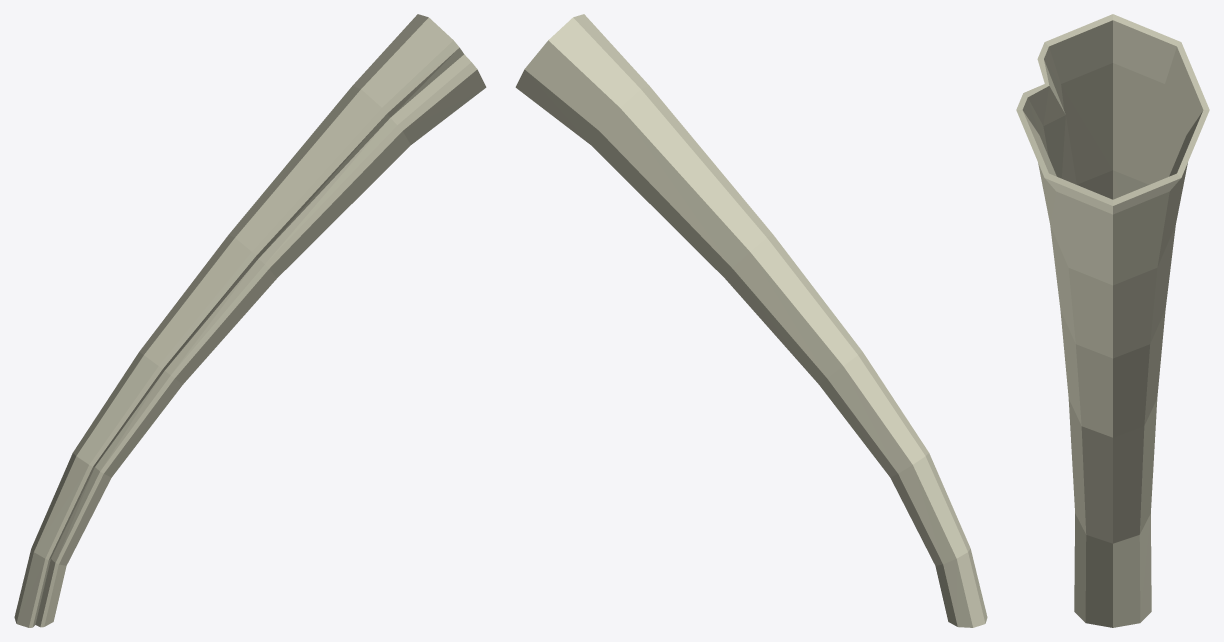
The model's file is SM_Bone_03.fbx.
The picture shows the model from 3 angles, left to right: view 1: azimuth 30°, elevation 25°; view 2: azimuth 150°, elevation 25°; view 3: azimuth 270°, elevation 25°; orthographic projection. The views are drawn at different scales.
Visible parts, largest first — view 1: Bone_03; view 2: Bone_03; view 3: Bone_03.
Boxes of the visible parts, x1,y1,x2,y2 form: Bone_03: [14, 14, 486, 627]; Bone_03: [515, 14, 987, 627]; Bone_03: [1016, 14, 1209, 627].
Size of the model in its own units: 128 by 135 by 24.57.
